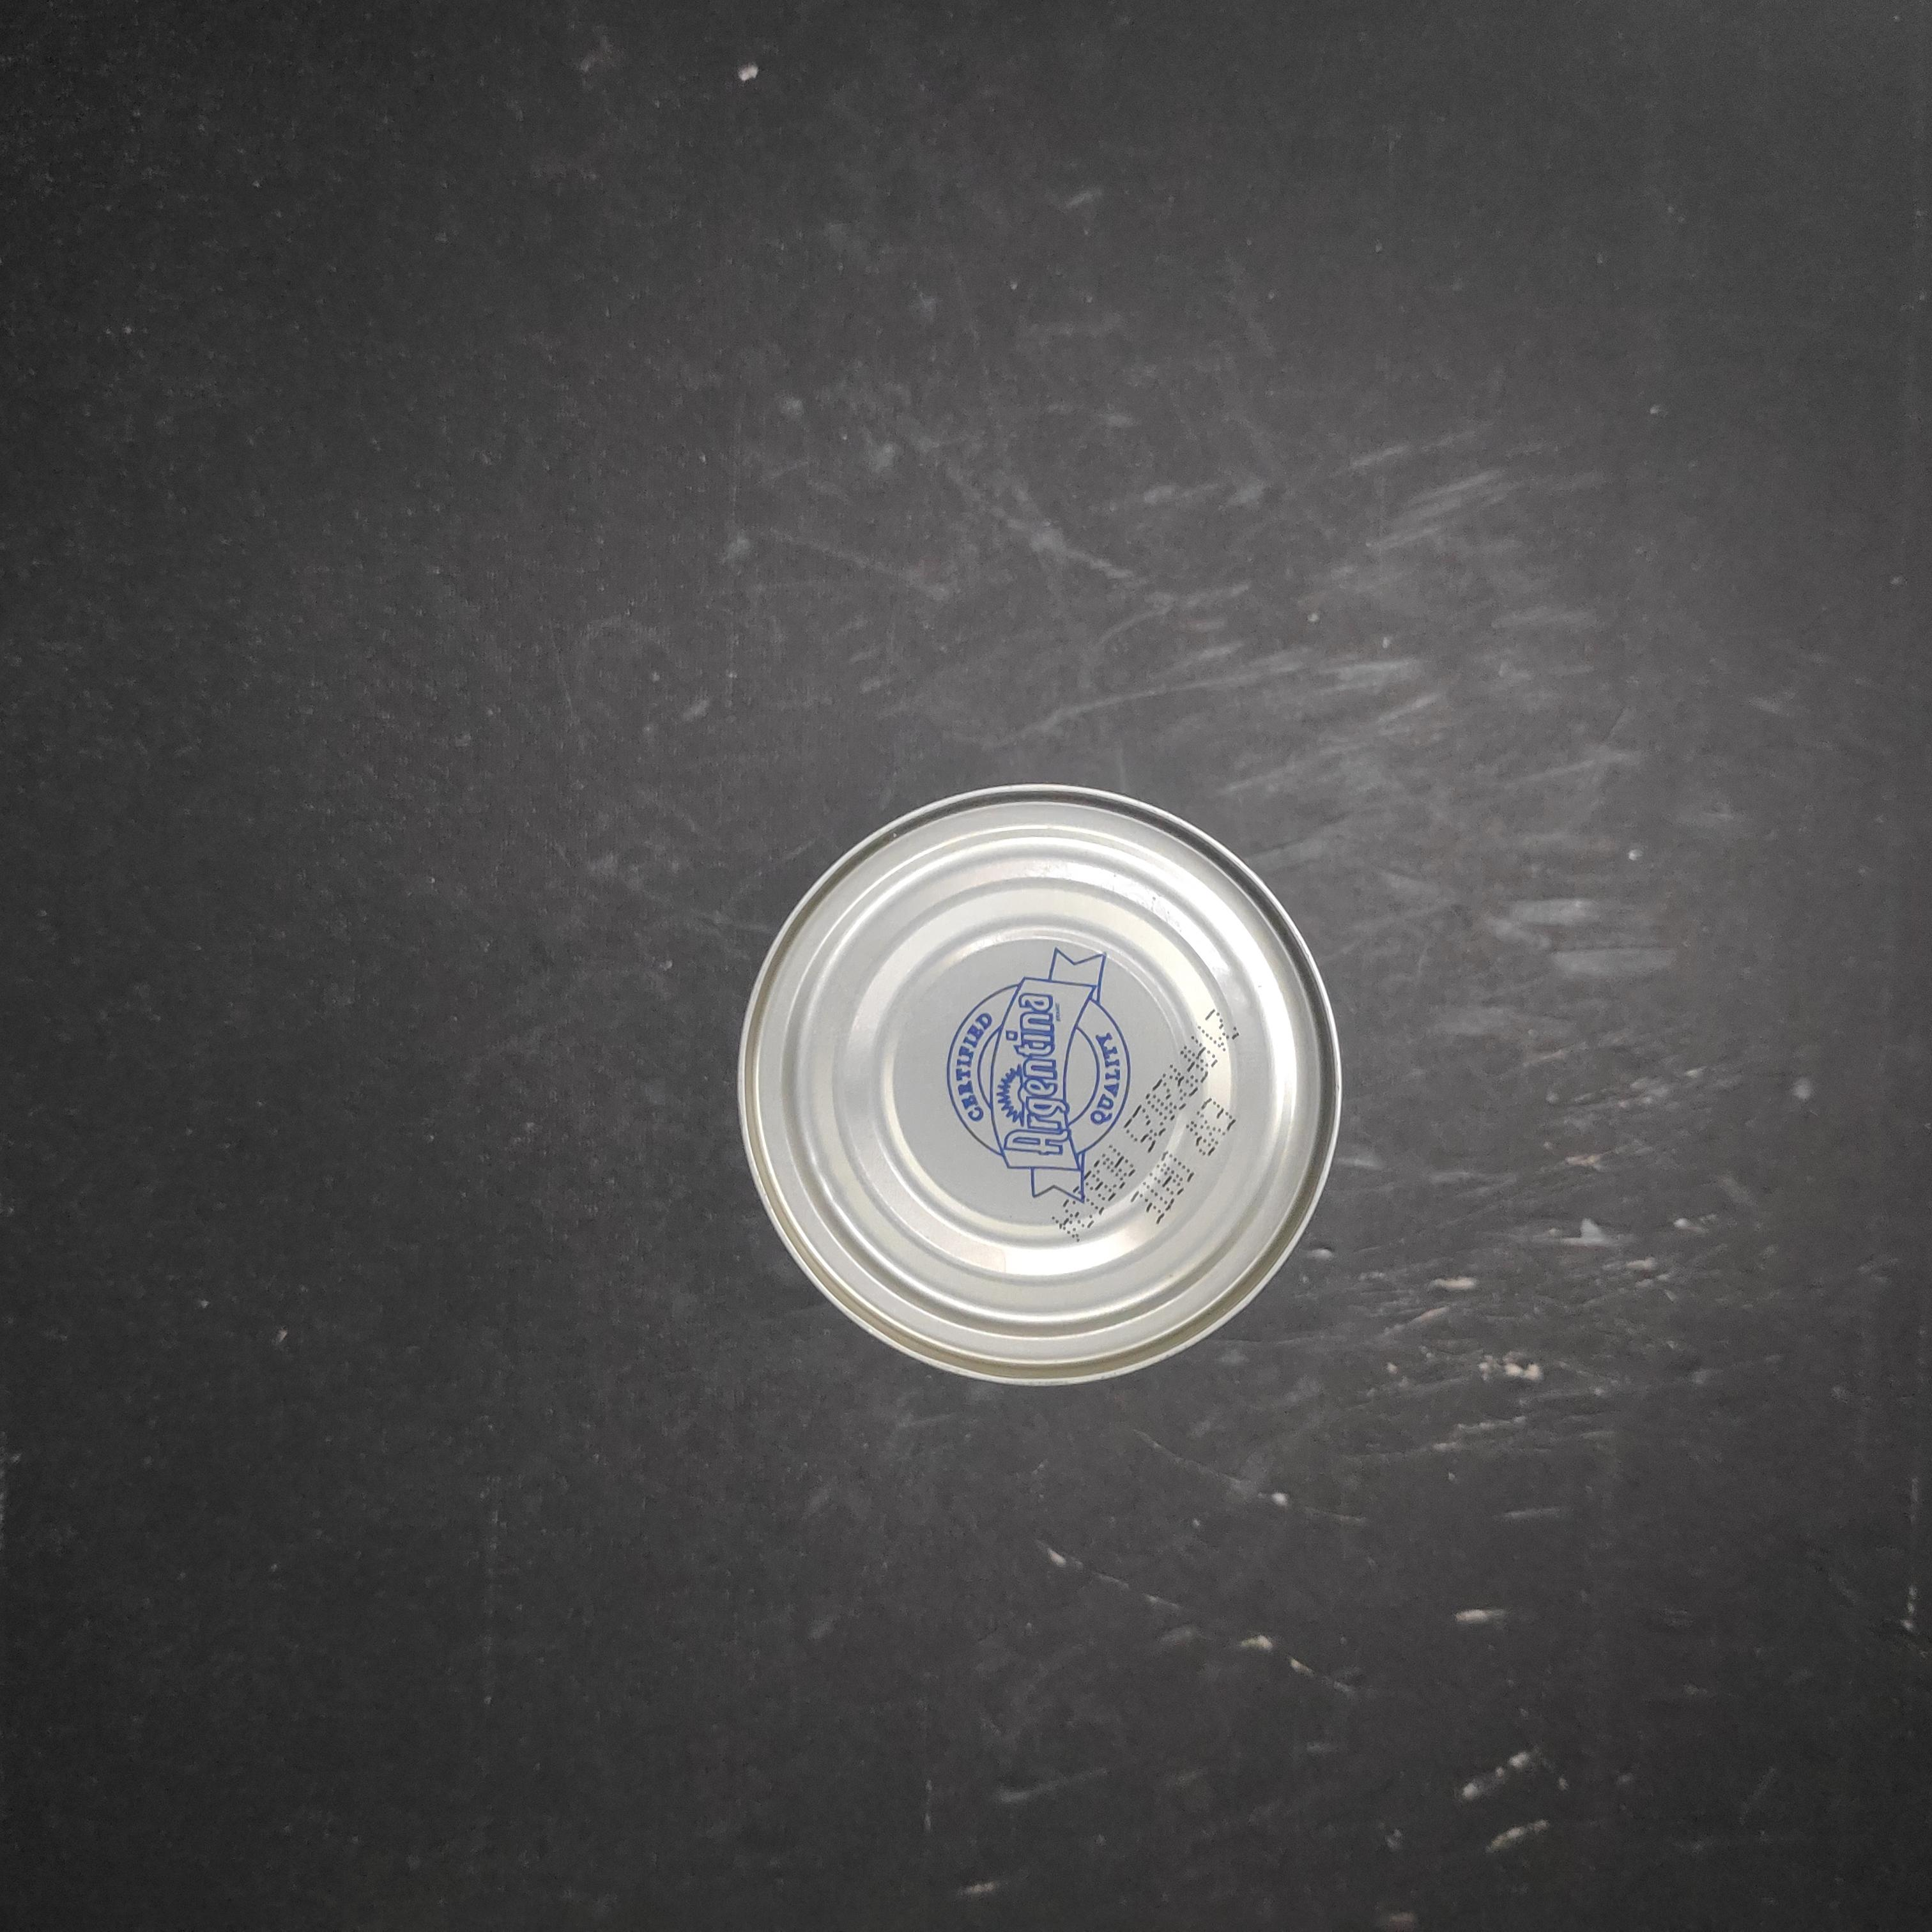No defect: (538, 732, 1159, 1361)
